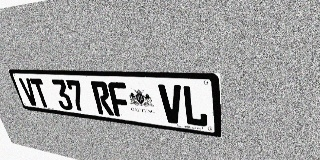3: (51, 79, 74, 111)
7: (65, 80, 88, 113)
F: (107, 82, 132, 118)
L: (182, 85, 208, 128)
R: (90, 81, 114, 116)
T: (29, 78, 51, 108)
V: (158, 84, 184, 125), (18, 78, 40, 106)
